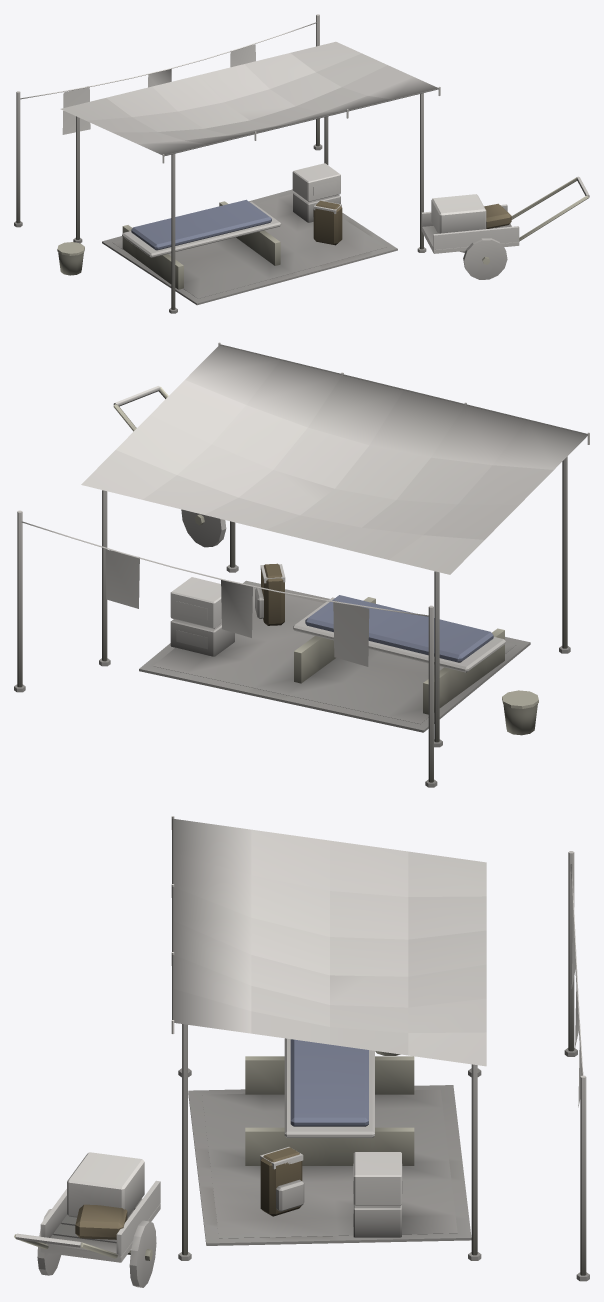
Rendered from camp_c.glb.
The picture shows the model from 3 angles, top to bottom: view 1: azimuth 30°, elevation 25°; view 2: azimuth 150°, elevation 25°; view 3: azimuth 270°, elevation 25°; orthographic projection. The views are drawn at different scales.
Parts seen in each view (by area): view 1: camp_c; view 2: camp_c; view 3: camp_c.
Boxes of the visible parts, box(x1,y1,x2,y2) form: camp_c: box(14, 14, 589, 313); camp_c: box(14, 342, 589, 787); camp_c: box(14, 816, 589, 1287).
Bounding box in the file's own units: 6.06 × 2.27 × 4.77.
